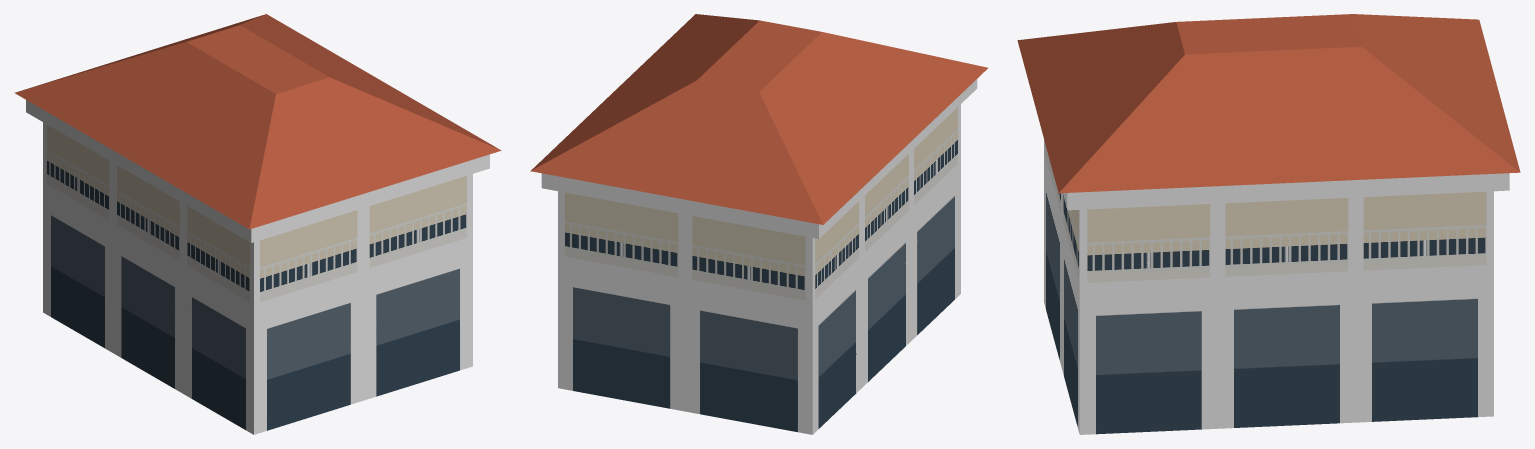
File: suertekwihi.glb
The picture shows the model from 3 angles, left to right: view 1: azimuth 30°, elevation 25°; view 2: azimuth 150°, elevation 25°; view 3: azimuth 270°, elevation 25°; orthographic projection. The views are drawn at different scales.
Visible parts, largest first — view 1: suertekwihi_lod0; view 2: suertekwihi_lod0; view 3: suertekwihi_lod0.
Boxes of the visible parts, box(x1,y1,x2,y2) form: suertekwihi_lod0: box(14, 14, 501, 434); suertekwihi_lod0: box(530, 14, 988, 434); suertekwihi_lod0: box(1017, 14, 1520, 434).
Size of what is drawn, in the model's own units: 10.32 by 9 by 12.63.
4 materials, 2 textured.
